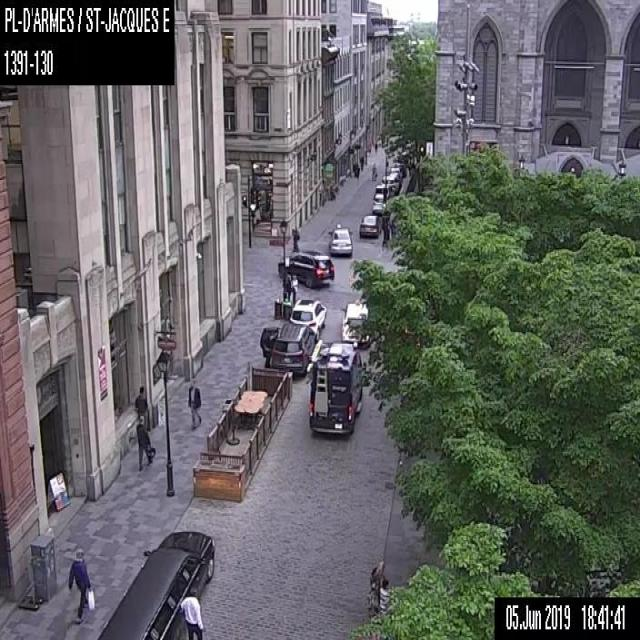pedestrian: (67, 548, 95, 623), (180, 586, 203, 638), (135, 413, 154, 470), (368, 560, 384, 612), (187, 380, 202, 427), (263, 330, 276, 367), (134, 385, 146, 421), (379, 578, 389, 612), (290, 273, 297, 304), (291, 225, 299, 250), (285, 273, 291, 300), (371, 163, 376, 180), (359, 153, 364, 169), (374, 142, 377, 153), (193, 634, 196, 638)
vehicle: (97, 530, 215, 638), (306, 339, 366, 436), (259, 322, 315, 377), (276, 249, 334, 286), (340, 299, 371, 347), (290, 298, 326, 338), (327, 222, 353, 257), (358, 215, 381, 238), (374, 183, 394, 203), (380, 175, 400, 194), (371, 192, 387, 213), (390, 166, 402, 179)
